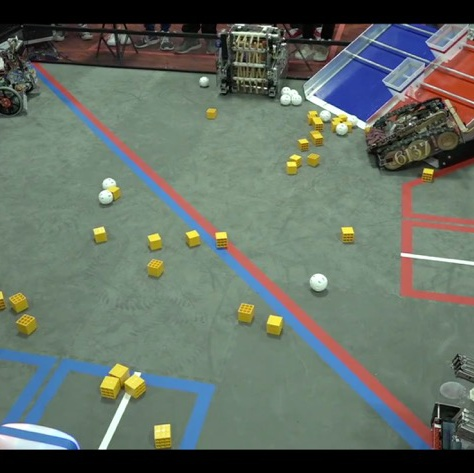robot: (364, 95, 469, 176), (213, 23, 292, 101), (432, 353, 474, 449), (0, 25, 40, 122)
